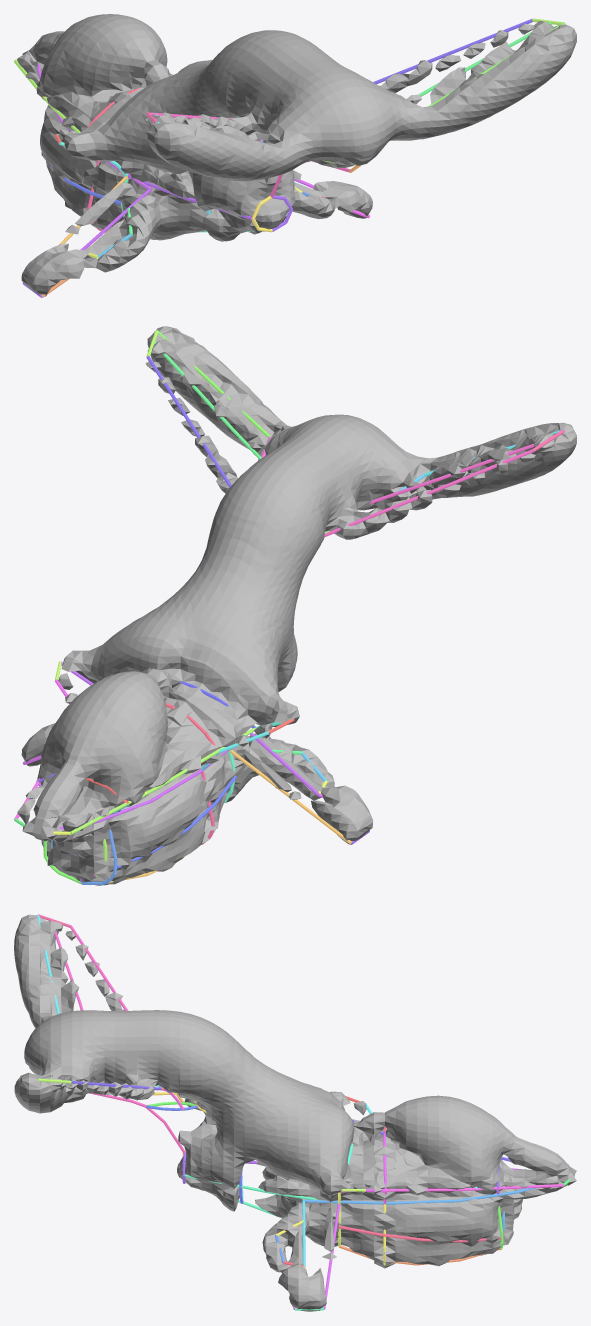
Rendered from ils_spacecraft_29.gltf.
3 views of the same model, one above another, from view 1: azimuth 30°, elevation 25°; view 2: azimuth 150°, elevation 25°; view 3: azimuth 270°, elevation 25° (orthographic). The views are drawn at different scales.
Size of the model in its own units: 0.5629 by 0.3995 by 0.7828.
